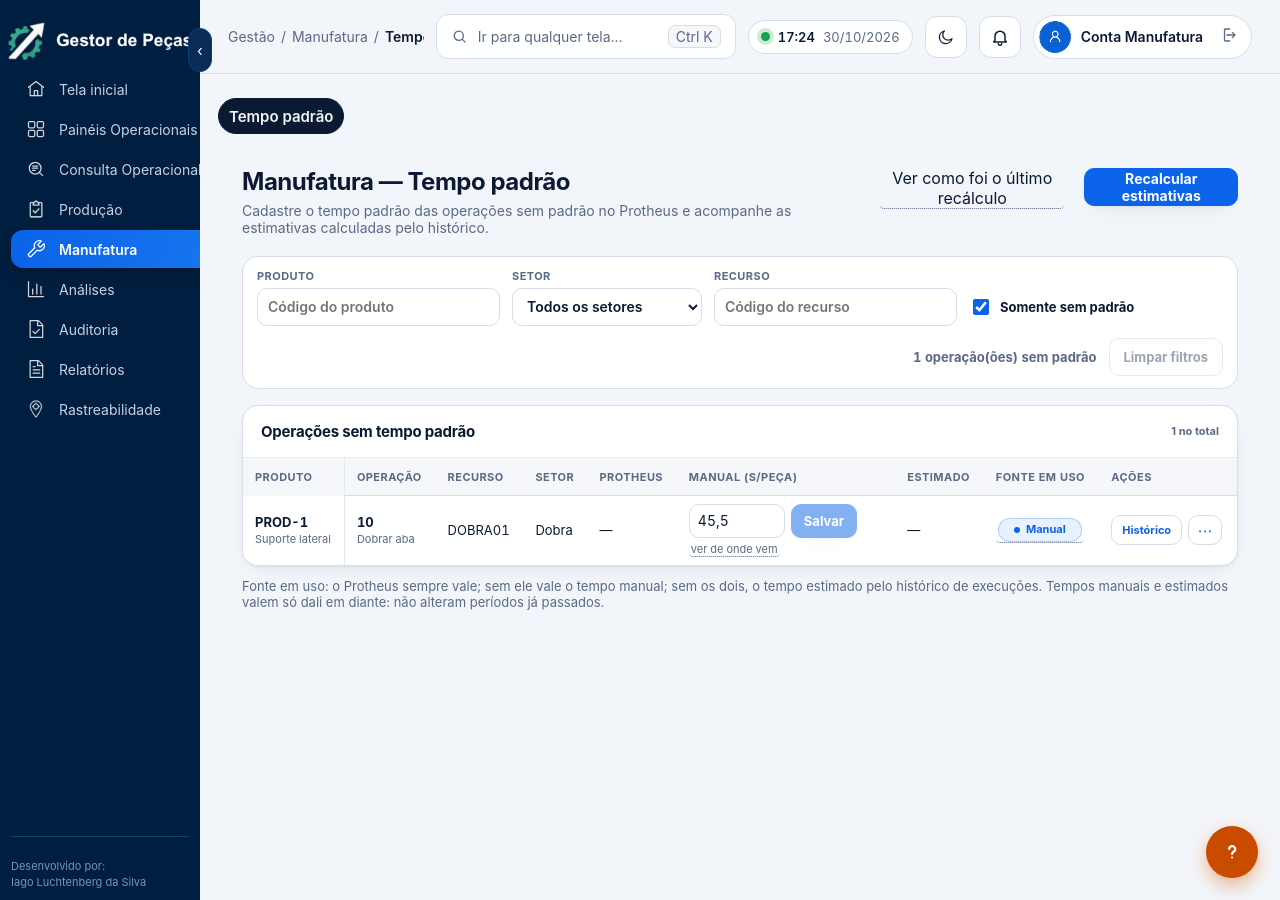
Scenario: Tempo padrão — tela › abre o histórico do tempo manual da operação
Check: the text "PROD-1" is shown, box [255,514,308,530]
Click the button with aria-label "Histórico:": (1147, 530) [1111,515,1182,545]
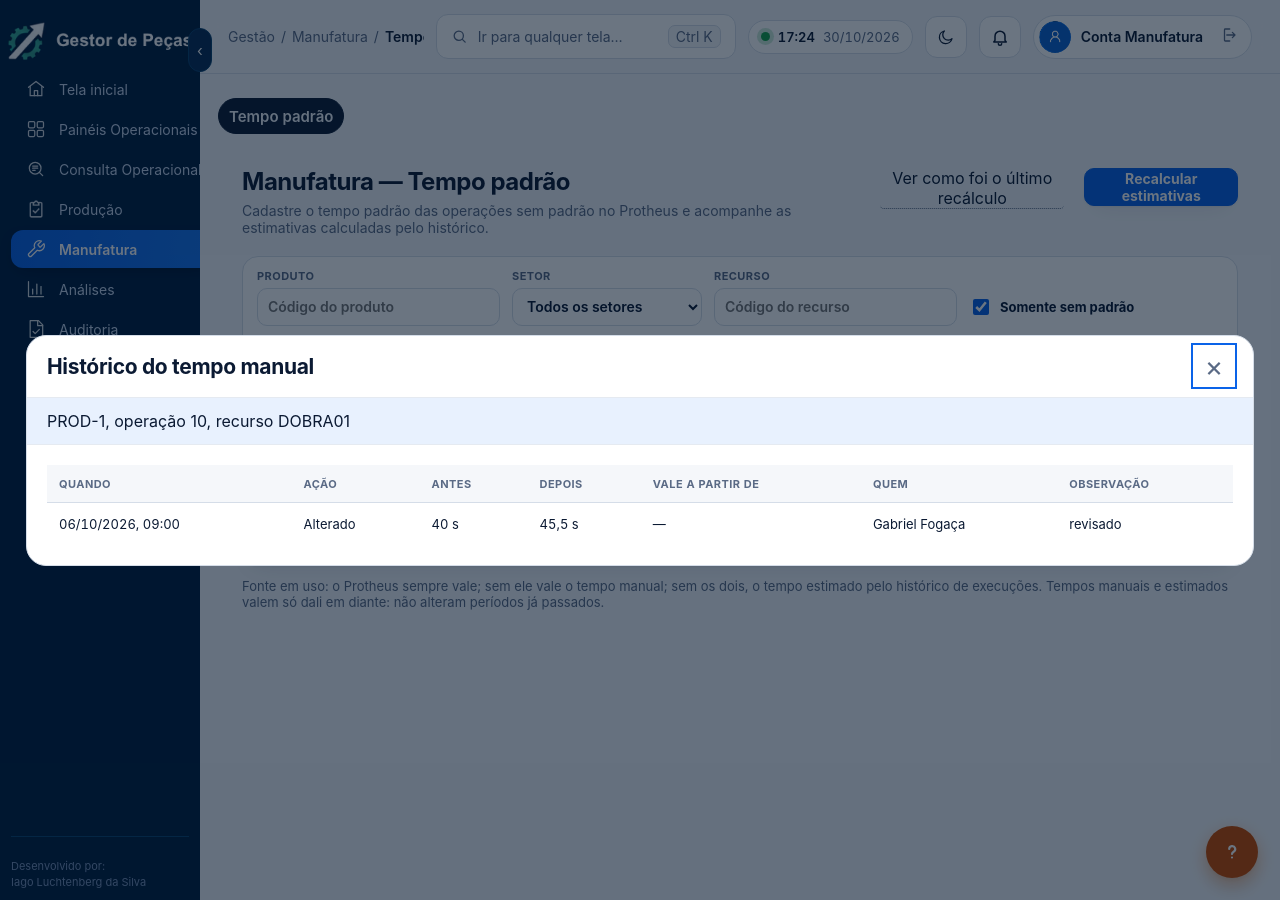
Check: the text "Alterado" is shown, box [292,502,420,544]
Check: the text "40 s" is shown, box [420,502,528,544]
Check: the text "Gabriel Fogaça" is shown, box [861,502,1057,544]
